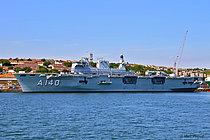MIL_Ship: (12, 54, 203, 93)
